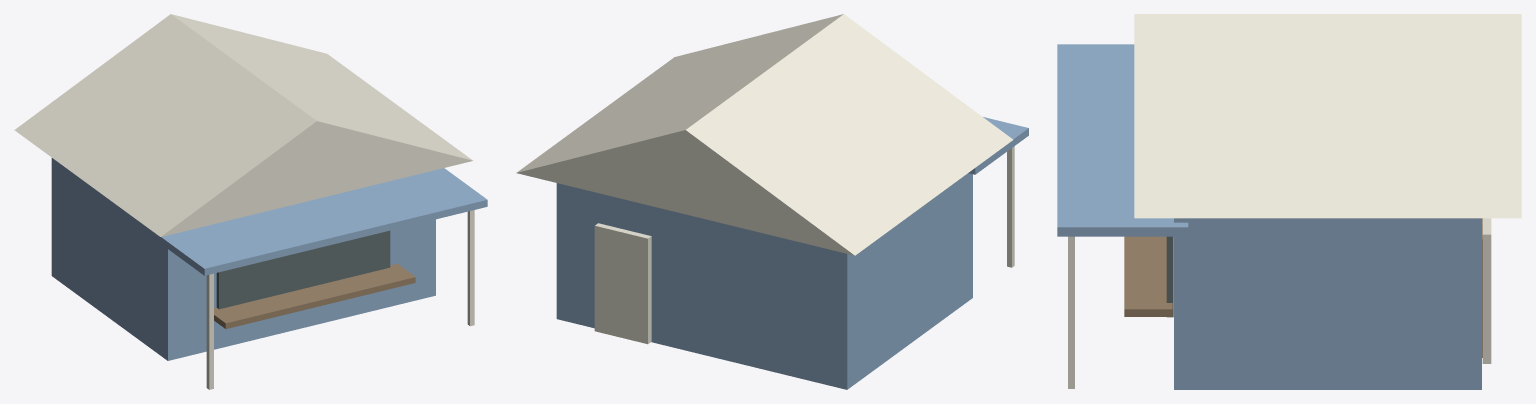
3 renders of one model, left to right at view 1: azimuth 30°, elevation 25°; view 2: azimuth 150°, elevation 25°; view 3: azimuth 270°, elevation 25°, orthographic. The views are drawn at different scales.
Bounding box in the file's own units: 8.4 × 5.6 × 8.15.
